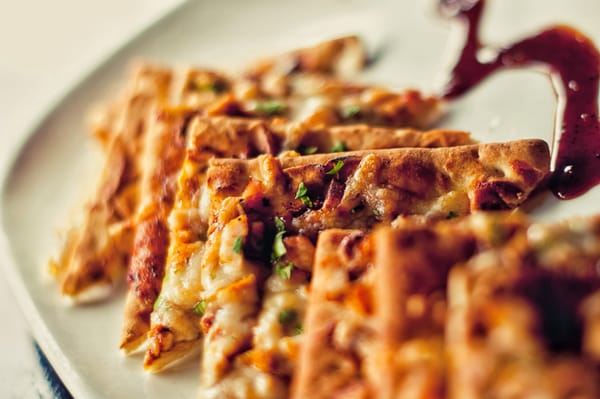sandwich: (10, 6, 599, 395)
